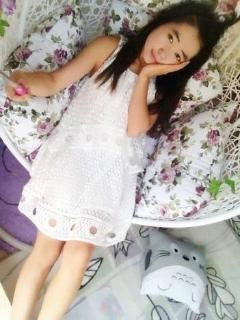skirt: (18, 120, 137, 247)
vest dress: (44, 34, 165, 174)
